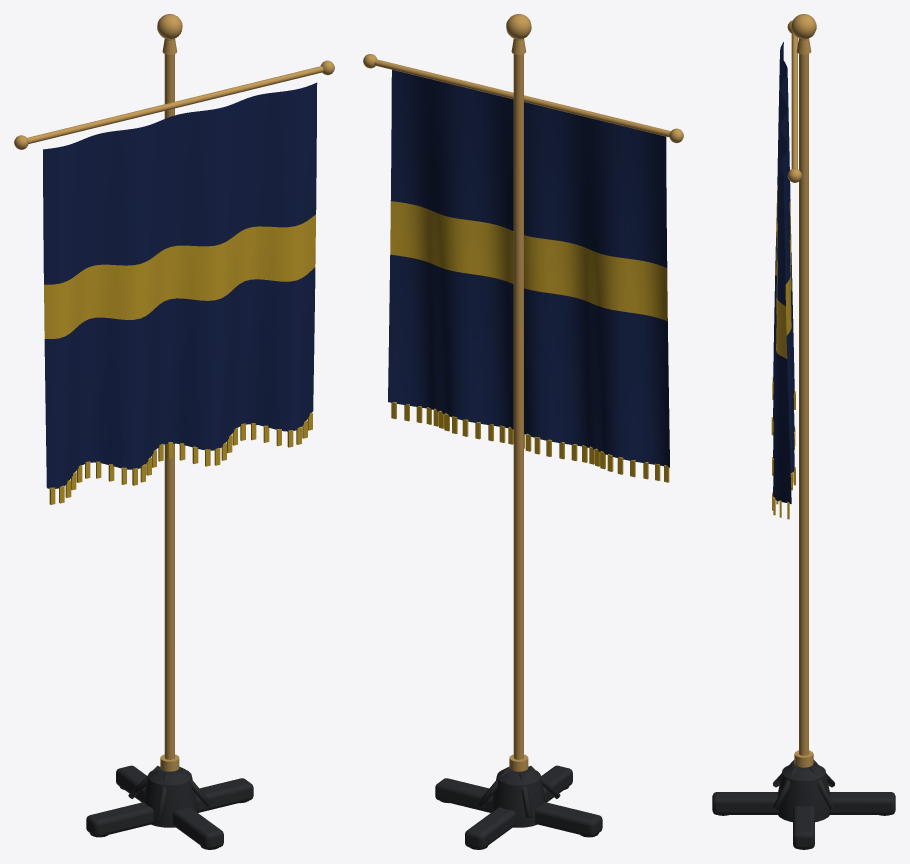
The model's file is flag.glb.
3 views of the same model, side by side, from view 1: azimuth 30°, elevation 25°; view 2: azimuth 150°, elevation 25°; view 3: azimuth 270°, elevation 25° (orthographic).
Parts seen in each view (by area): view 1: flag_flag_navy, flag_flag_gold, flag_brass, flag_flag_base; view 2: flag_flag_navy, flag_flag_gold, flag_brass, flag_flag_base; view 3: flag_brass, flag_flag_navy, flag_flag_base, flag_flag_gold.
Boxes of the visible parts, x1,y1,x2,y2 form: flag_flag_navy: (43, 82, 317, 488); flag_flag_gold: (44, 214, 315, 504); flag_brass: (14, 14, 334, 771); flag_flag_base: (86, 765, 253, 849); flag_flag_navy: (388, 70, 669, 467); flag_flag_gold: (390, 201, 669, 482); flag_brass: (363, 14, 683, 771); flag_flag_base: (435, 765, 602, 849); flag_brass: (787, 14, 816, 767); flag_flag_navy: (773, 42, 794, 503); flag_flag_base: (712, 760, 895, 848); flag_flag_gold: (771, 185, 795, 519).
Size of the model in its own units: 1 by 2.4 by 0.5.
